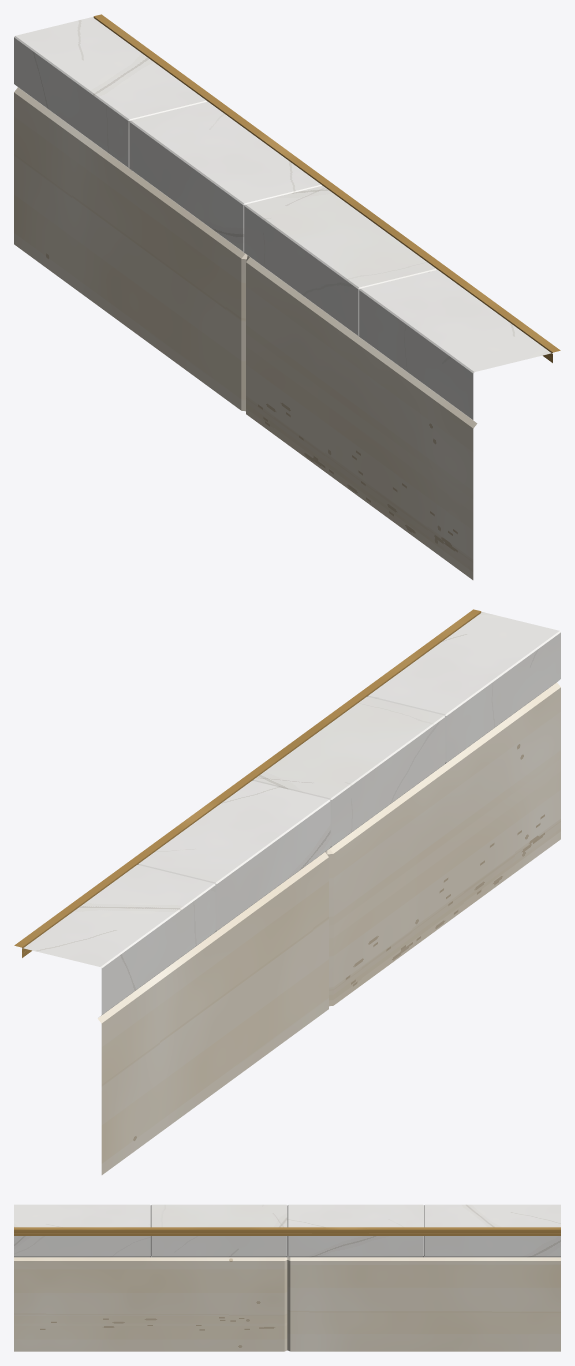
The picture shows the model from 3 angles, top to bottom: view 1: azimuth 30°, elevation 25°; view 2: azimuth 150°, elevation 25°; view 3: azimuth 270°, elevation 25°; orthographic projection. The views are drawn at different scales.
Parts seen in each view (by area): view 1: Mesh_coping_4; view 2: Mesh_coping_4; view 3: Mesh_coping_4.
Boxes of the visible parts, x1,y1,x2,y2 form: Mesh_coping_4: [14, 14, 560, 579]; Mesh_coping_4: [14, 609, 560, 1174]; Mesh_coping_4: [14, 1204, 560, 1351].
Size of the model in its own units: 0.44 by 1 by 4.
1 material, 1 textured.
